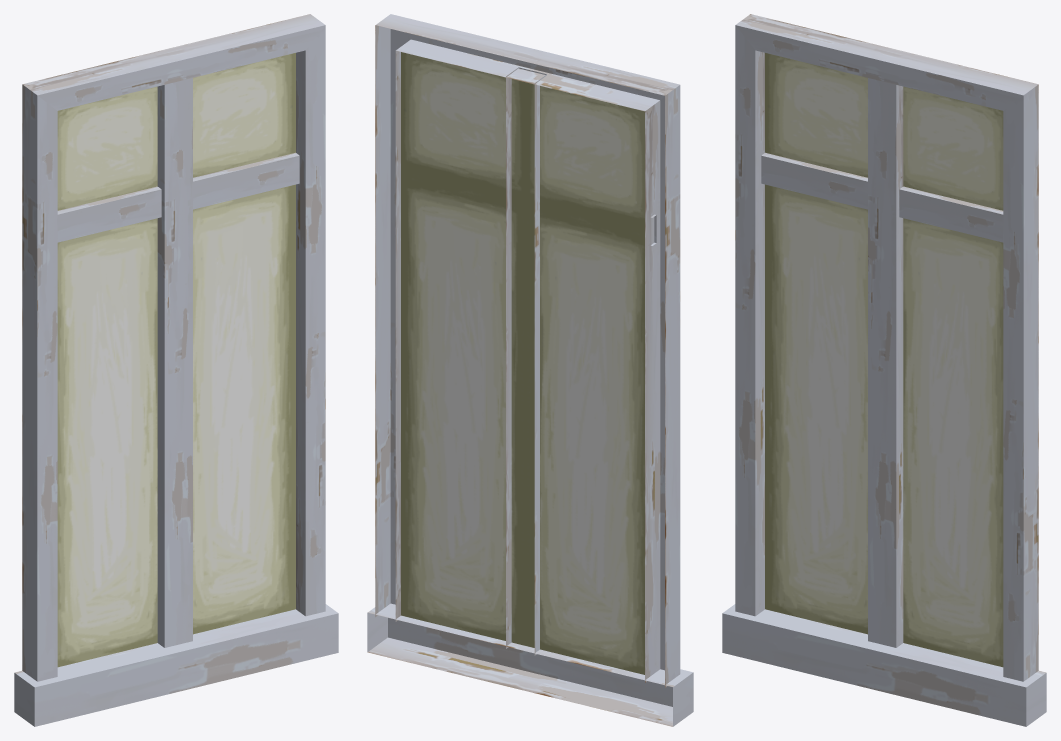
Rendered from MOD_Window_03_02_01.fbx.
The picture shows the model from 3 angles, left to right: view 1: azimuth 30°, elevation 25°; view 2: azimuth 150°, elevation 25°; view 3: azimuth 330°, elevation 25°; orthographic projection.
Visible parts, largest first — view 1: MOD_Window_03_02_01; view 2: MOD_Window_03_02_01; view 3: MOD_Window_03_02_01.
Boxes of the visible parts, x1,y1,x2,y2 form: MOD_Window_03_02_01: (14, 14, 338, 726); MOD_Window_03_02_01: (367, 14, 693, 726); MOD_Window_03_02_01: (722, 14, 1046, 726).
Bounding box in the file's own units: 96.22 × 189 × 11.12.
